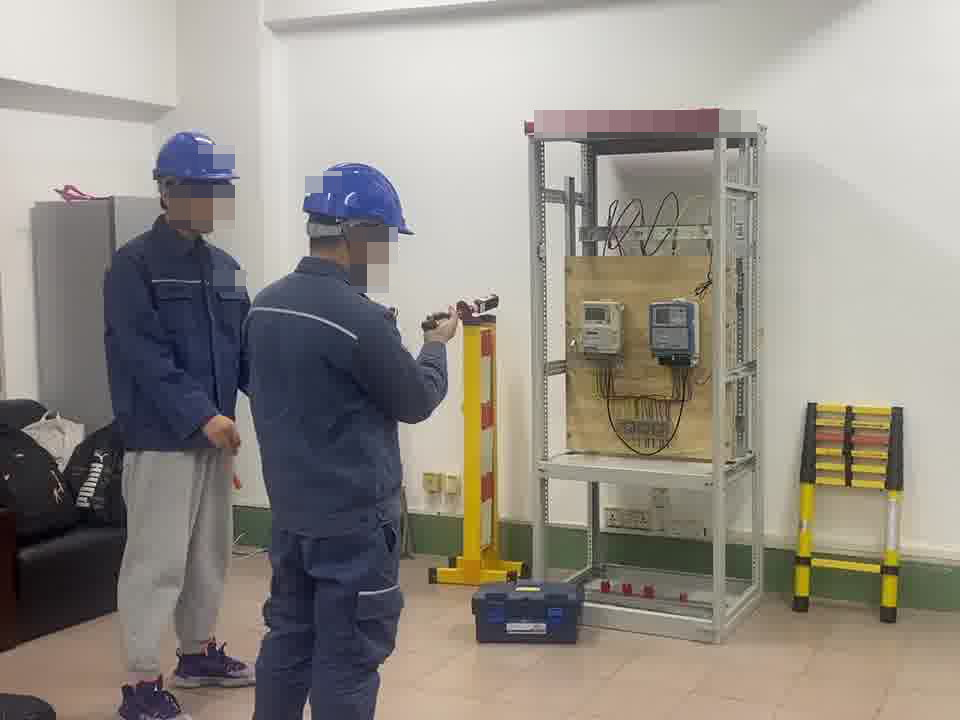downcloth: (117, 454, 215, 652)
downsuit: (244, 529, 406, 720)
halt: (299, 161, 409, 281), (151, 130, 239, 237)
hand: (201, 413, 243, 457), (422, 304, 457, 342)
inear: (337, 221, 374, 274), (159, 177, 187, 222)
person: (241, 155, 451, 720), (91, 127, 247, 716)
upsuit: (246, 261, 451, 516), (104, 233, 243, 459)
